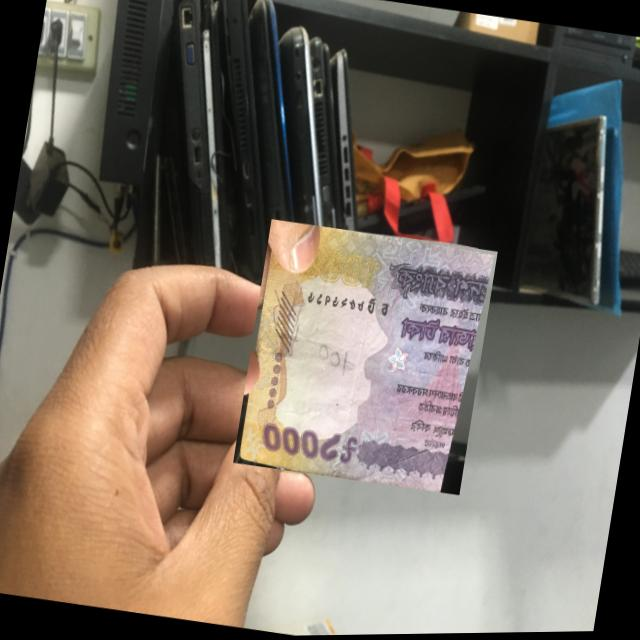Taka: (233, 217, 498, 499)
